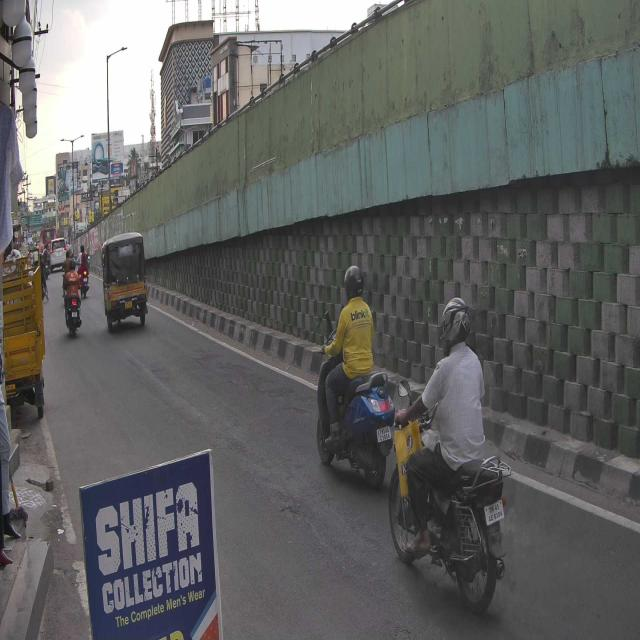single_rider: (398, 297, 508, 615), (314, 261, 396, 482)
